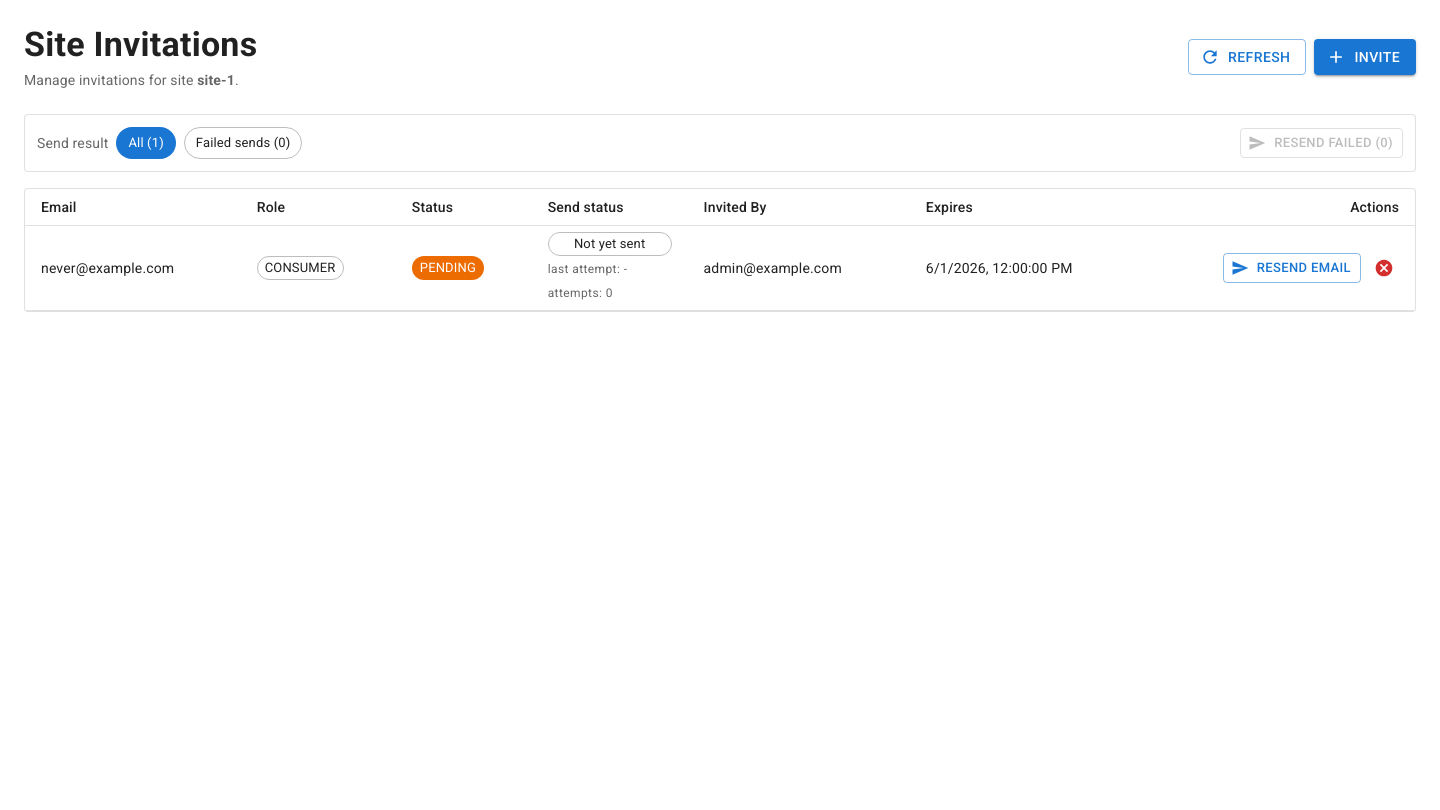
SiteInvitationsPage Resend confirmation flow › surfaces the synthetic shape-guard message when the service rejects with the Phase 5 HTML-fallback error
The width and height of the screenshot is (1440, 810).
expect the text "never@example.com" is shown: met, box [41, 260, 174, 276]
Click the button with aria-label "Resend invitation to never@example.com" at (1292, 268), box [1223, 252, 1361, 283]
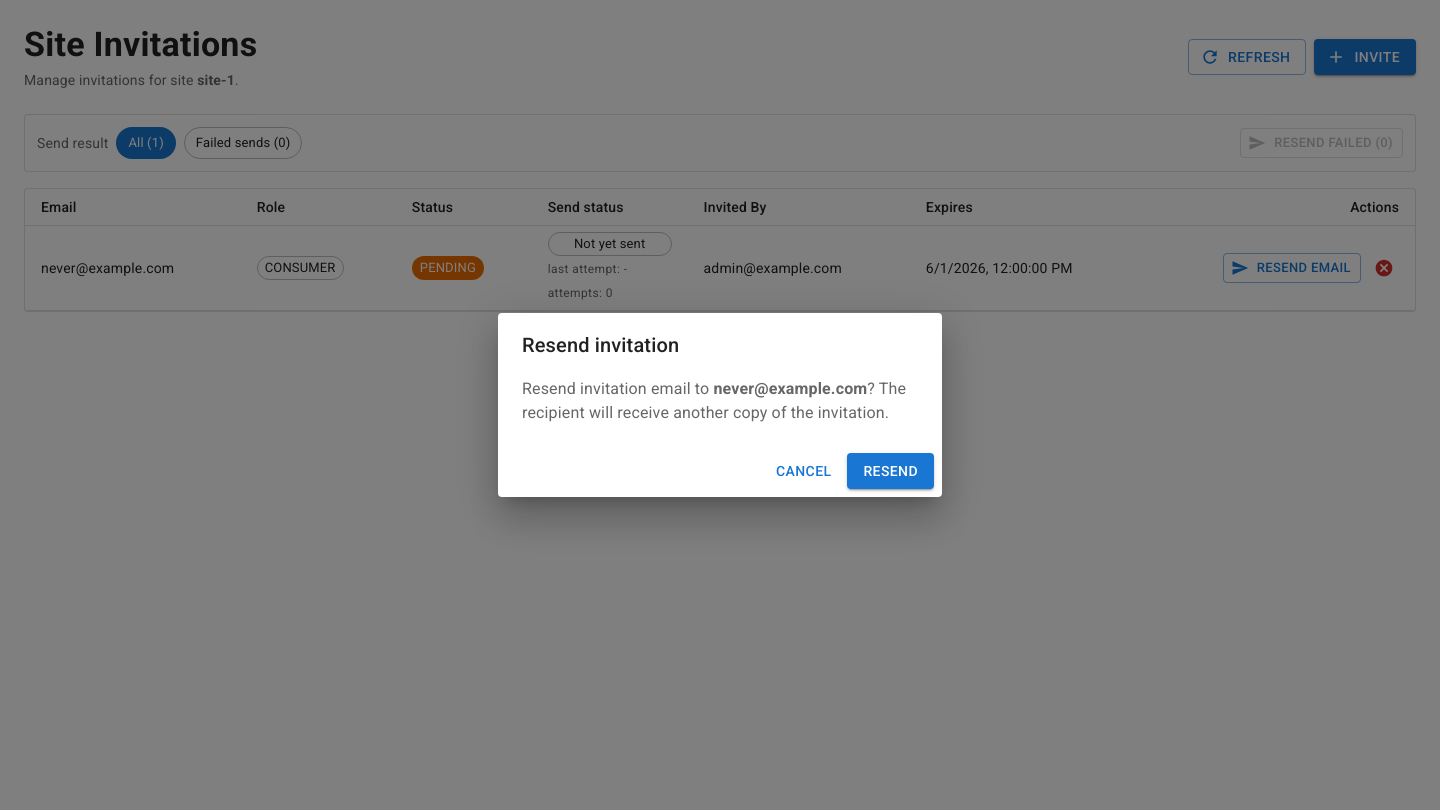
Click the button "Resend" at (891, 471), box [847, 453, 934, 489]
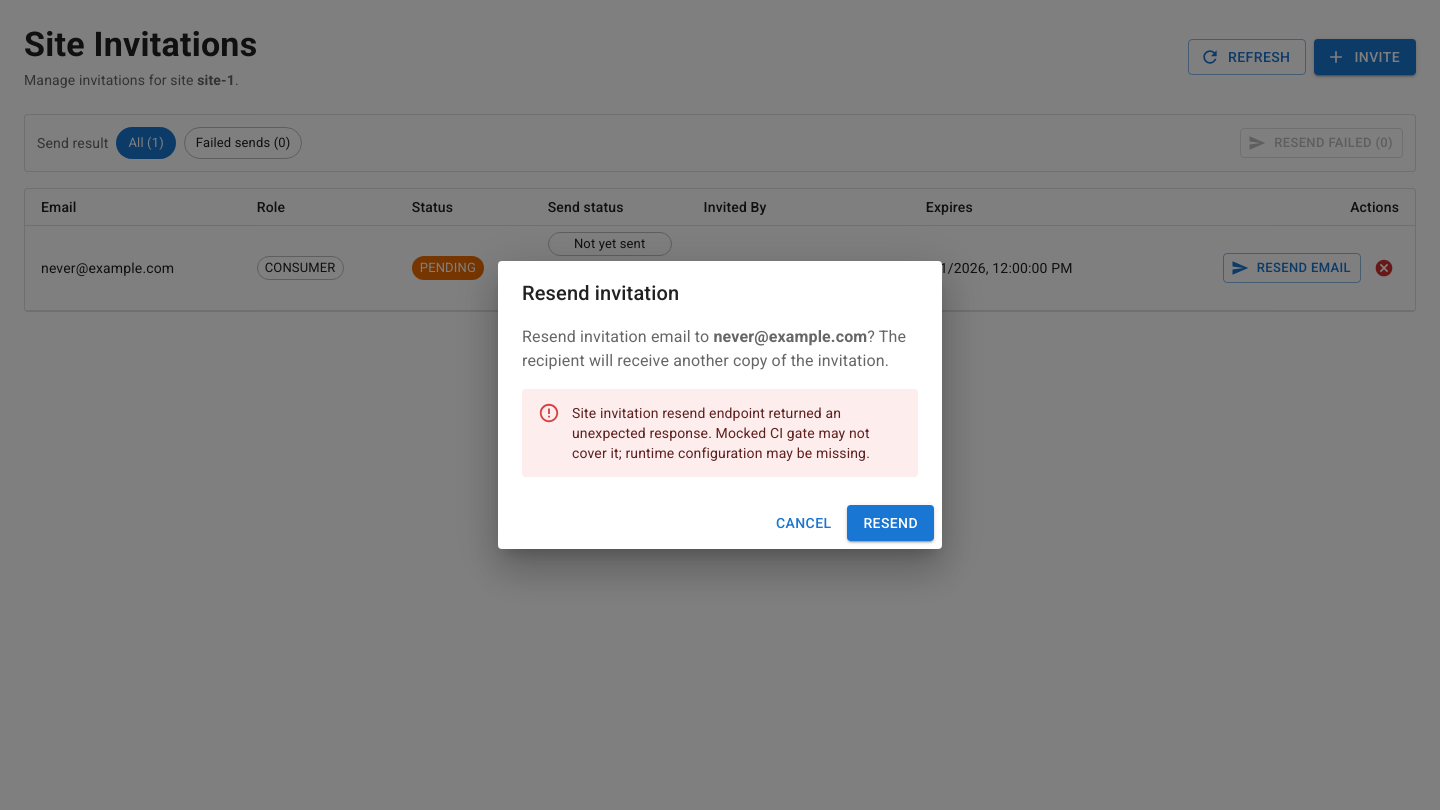
expect the heading "Site Invitations" is shown: met, box [24, 24, 257, 66]
expect the message with test id "resend-invitation-error" shows "Site invitation resend endpoint returned an unexpected response. Mocked CI gate may not cover it; runtime configuration may be missing.": met, box [572, 405, 870, 461]
